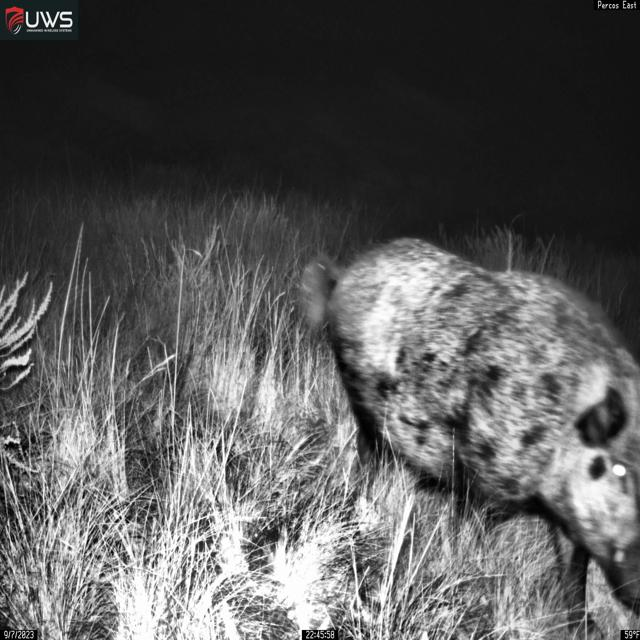pig: (298, 235, 640, 640)
